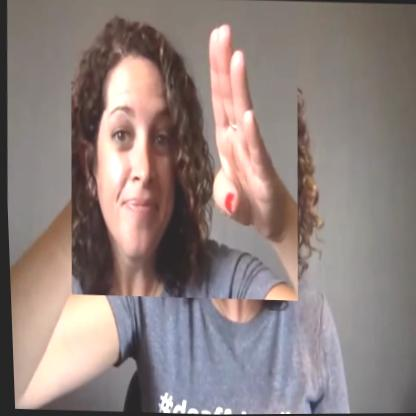Hello: (61, 0, 306, 303)
